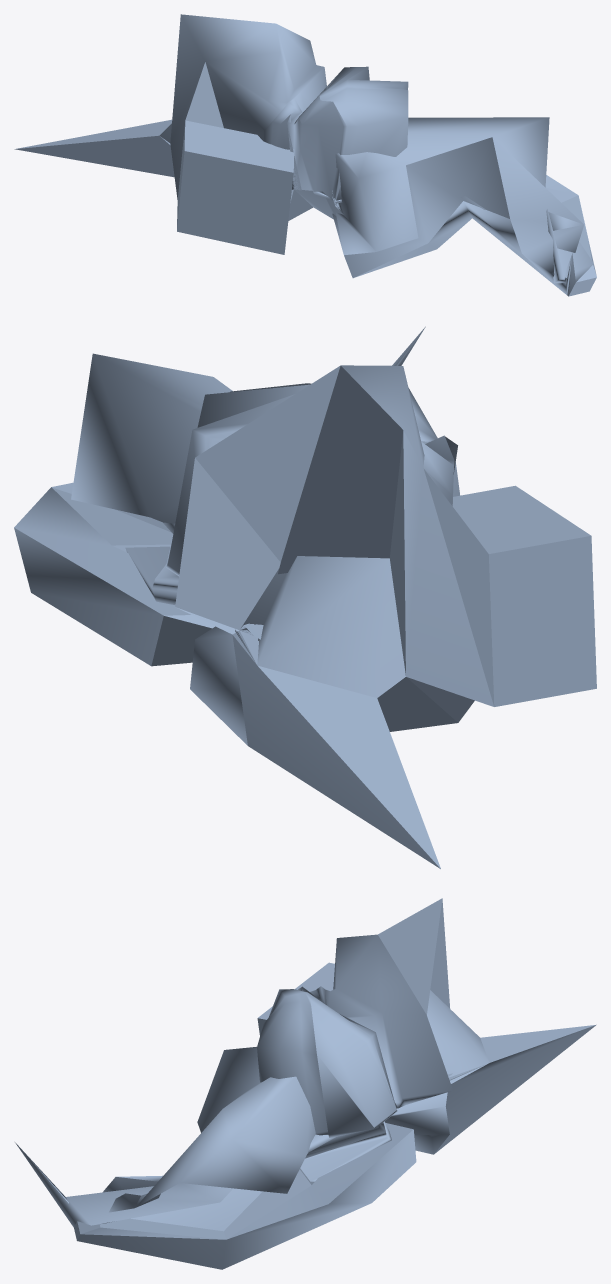
File: CLOUD2.fbx
3 views of the same model, one above another, from view 1: azimuth 30°, elevation 25°; view 2: azimuth 150°, elevation 25°; view 3: azimuth 270°, elevation 25° (orthographic). The views are drawn at different scales.
Parts seen in each view (by area): view 1: pSphere9; view 2: pSphere9; view 3: pSphere9.
Boxes of the visible parts, x1,y1,x2,y2 form: pSphere9: (14, 14, 596, 296); pSphere9: (14, 326, 596, 868); pSphere9: (15, 898, 596, 1269).
Bounding box in the file's own units: 31.99 × 16.36 × 39.14.
